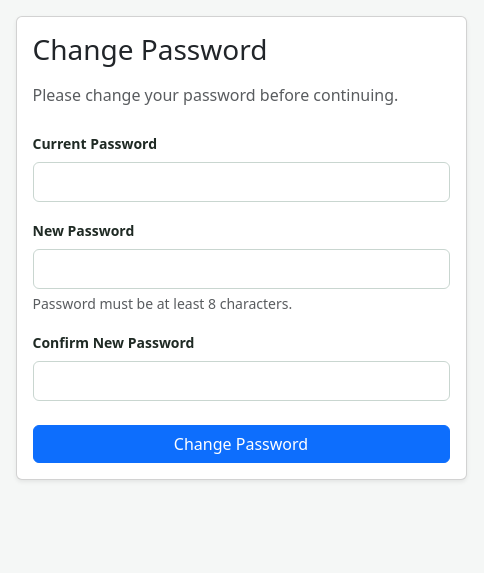
Lab 3 - First Login Password Change › shows the API error when changing the password fails
The image size is (484, 573).
Type "WrongPassword!" into the password field labelled "Current Password".
click(241, 182); type("WrongPassword!")  # box [32, 162, 450, 202]
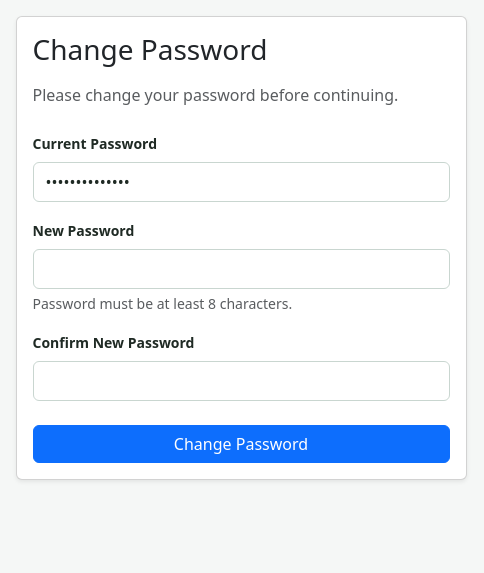
Type "NewPassword123!" into the password field labelled "New Password".
click(241, 269); type("NewPassword123!")  # box [32, 249, 450, 289]
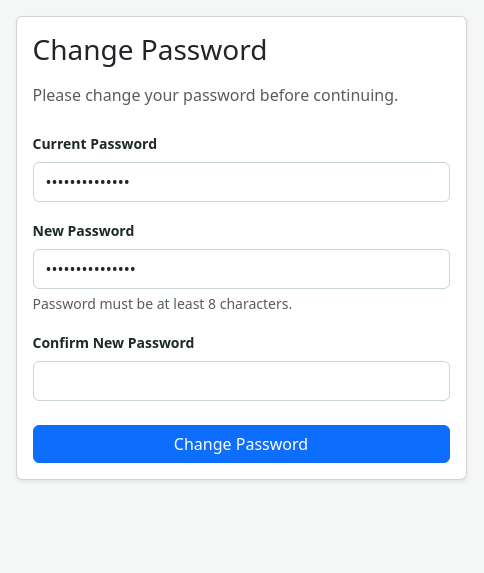
Type "NewPassword123!" into the password field labelled "Confirm New Password".
click(241, 381); type("NewPassword123!")  # box [32, 361, 450, 401]
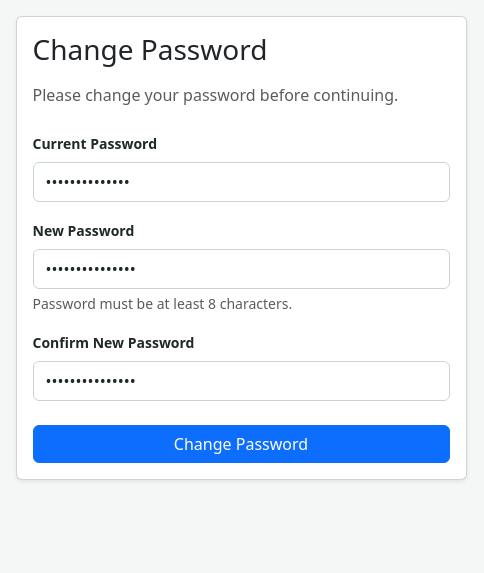
Click the button "Change Password".
click(241, 444)  # box [32, 425, 450, 463]
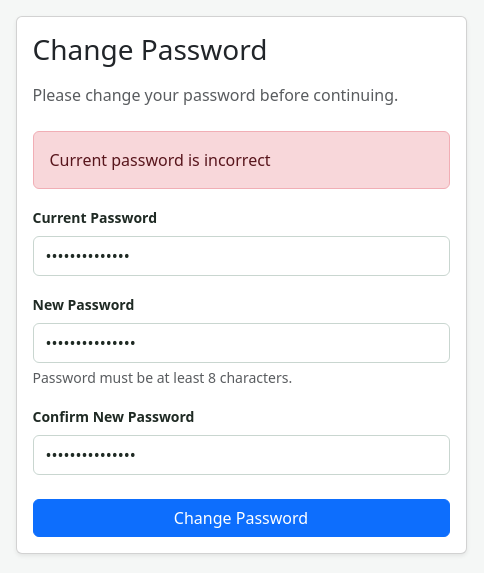
Expected: the button "Change Password" is shown, [32, 499, 450, 537]
Expected: the text "Current password is incorrect" is shown, [32, 131, 450, 189]
